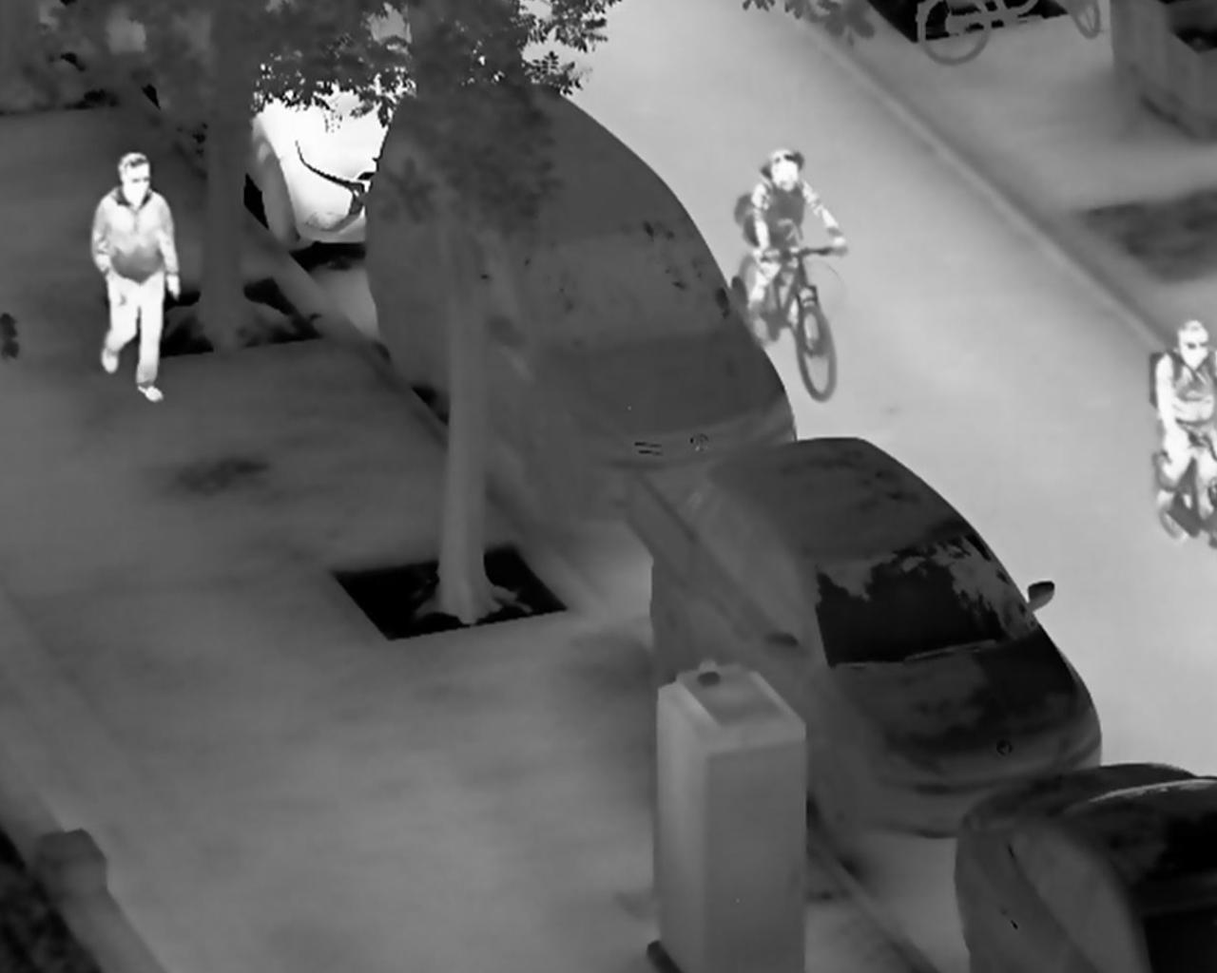person: (86, 151, 182, 407), (743, 144, 850, 348), (1149, 318, 1217, 525)
